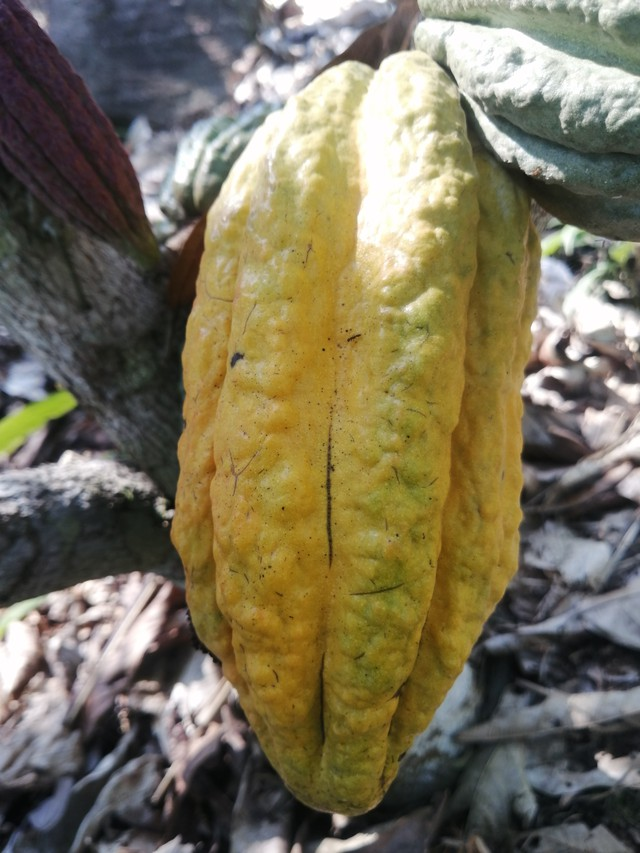Health: (143, 45, 551, 820)
